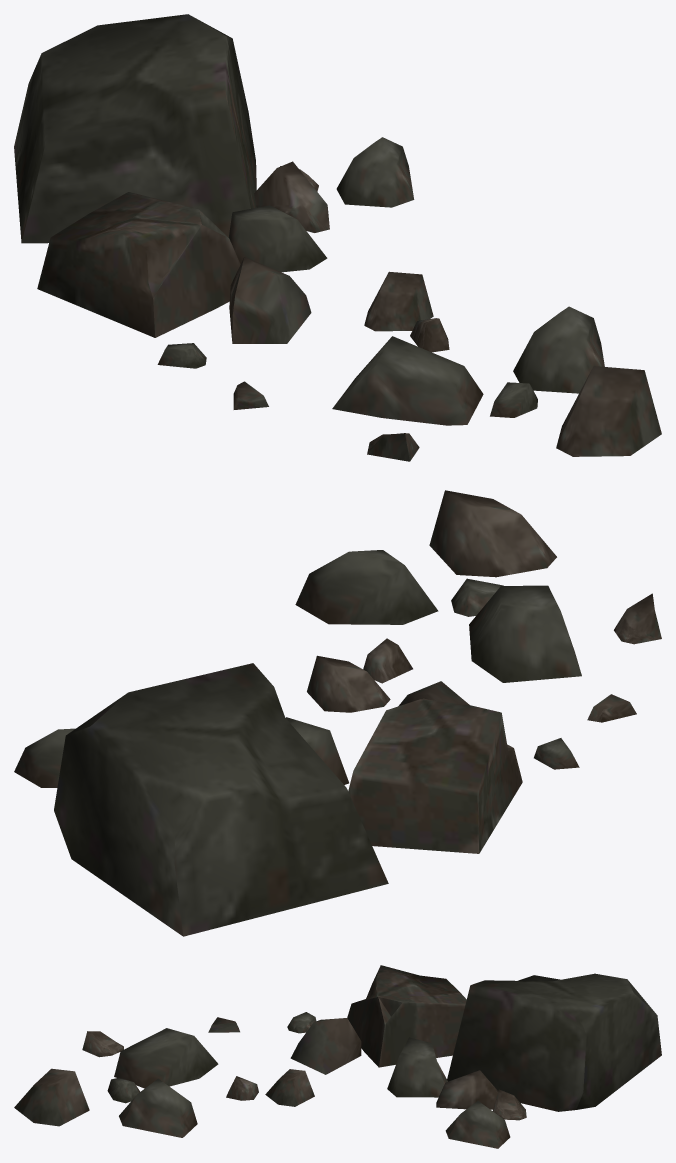
The model's file is h5_suishi_c.FBX.
3 views of the same model, one above another, from view 1: azimuth 30°, elevation 25°; view 2: azimuth 150°, elevation 25°; view 3: azimuth 270°, elevation 25° (orthographic). The views are drawn at different scales.
Visible parts, largest first — view 1: h5_suishi_c; view 2: h5_suishi_c; view 3: h5_suishi_c.
Part boxes in pixels (<box>): h5_suishi_c: <box>14,14,661,461</box>; h5_suishi_c: <box>14,490,661,936</box>; h5_suishi_c: <box>14,965,661,1148</box>.
Bounding box in the file's own units: 3.55 × 1.18 × 7.14.
1 material, 1 textured.
